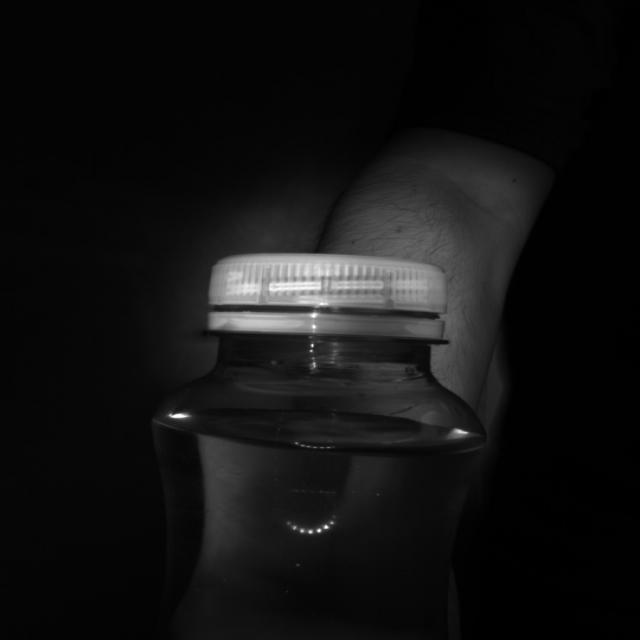Not Good: (208, 255, 444, 341)
